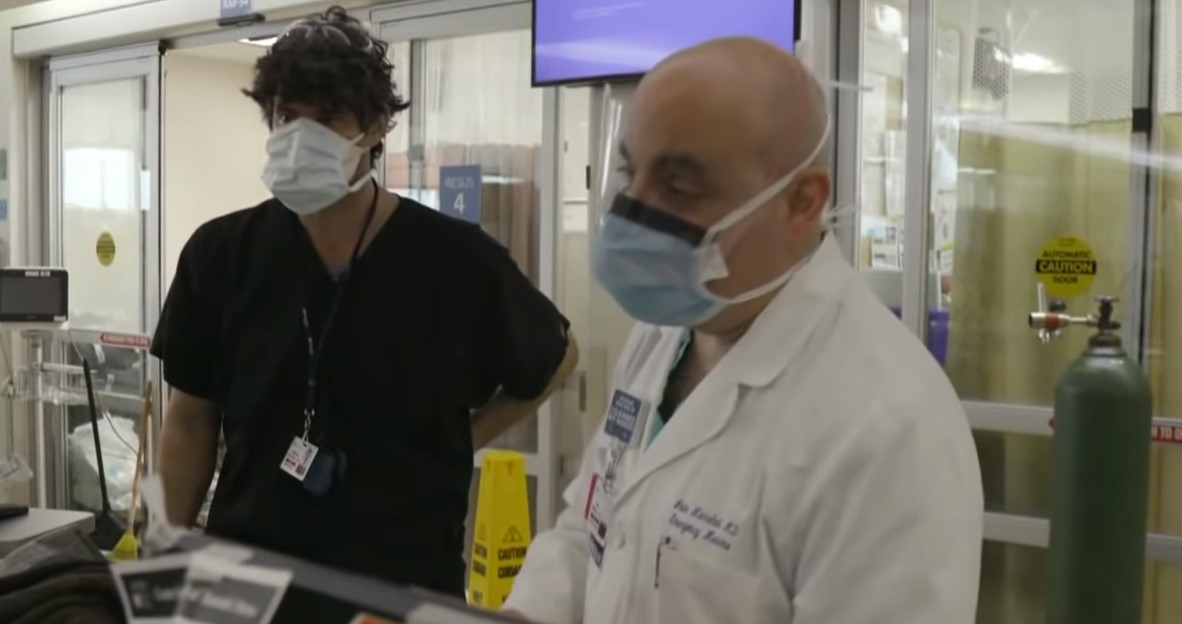face_with_mask: (592, 37, 831, 328), (248, 4, 391, 219)
